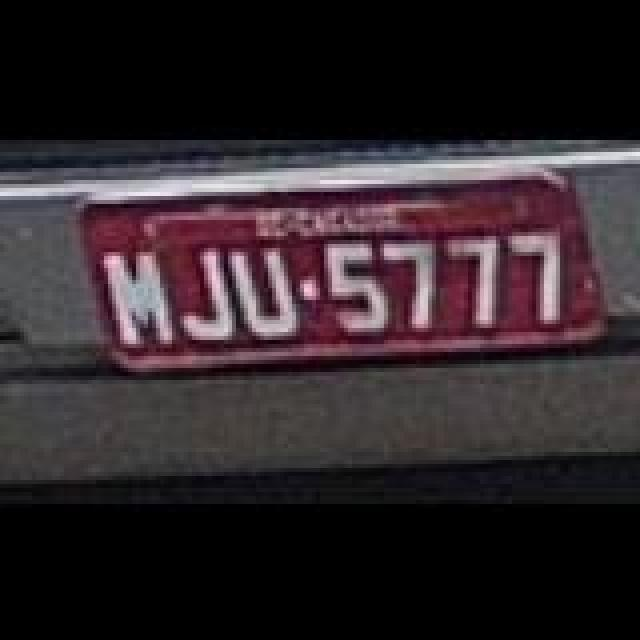5: (324, 240, 396, 336)
7: (382, 232, 450, 328), (506, 230, 574, 322), (448, 230, 512, 322)
J: (164, 248, 236, 344)
M: (102, 246, 178, 346)
U: (224, 244, 312, 340)
